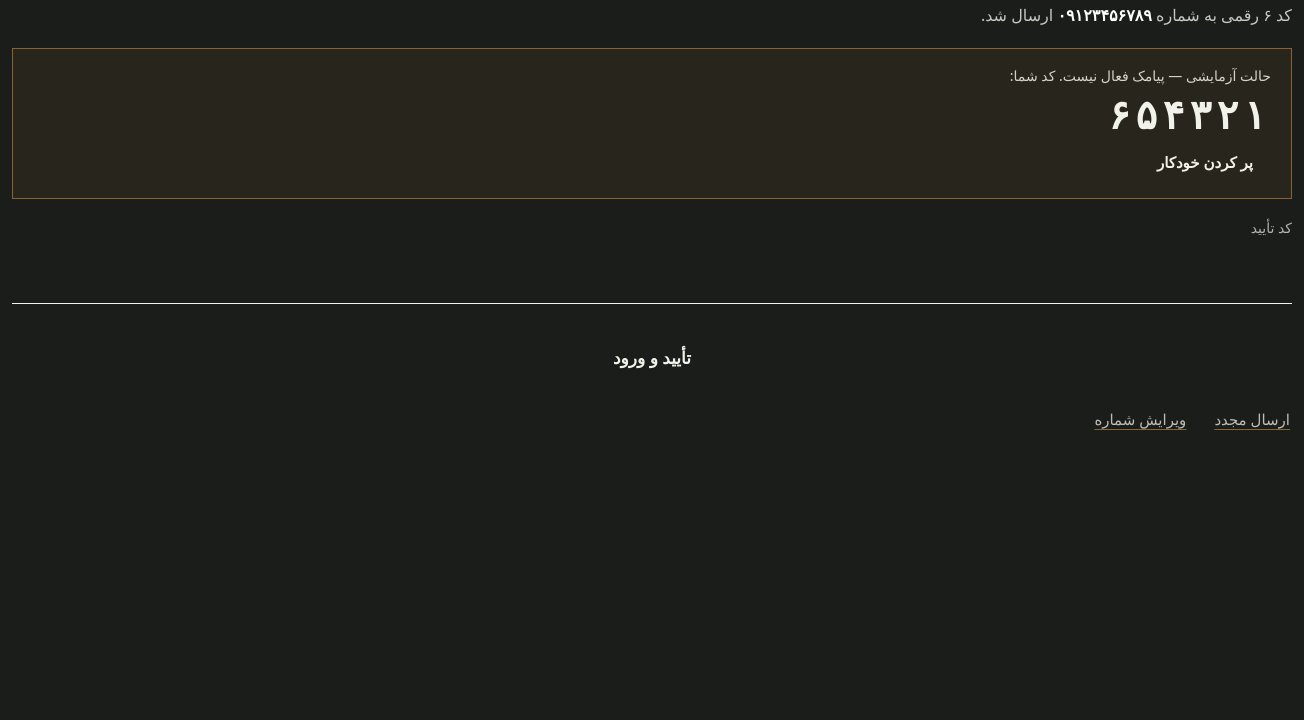
OtpVerify › shows the retry time of a rate limited resend and restarts the cooldown
Click the button "ارسال مجدد".
click(1252, 420)  # box [1212,402,1292,437]
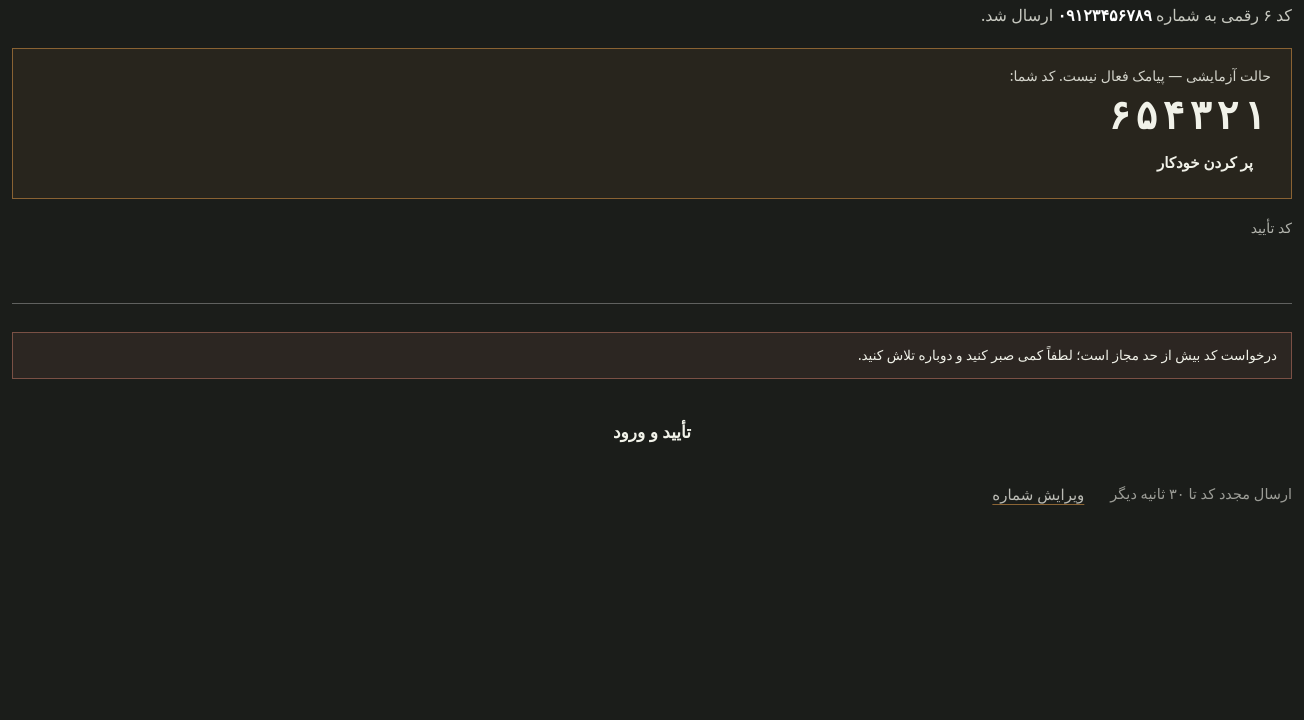
Result: the text "درخواست کد بیش از حد مجاز است؛ لطفاً کمی صبر کنید و دوباره تلاش کنید." is shown at [12,332,1292,379]
Result: the text "ارسال مجدد کد تا ۳۰ ثانیه دیگر" is shown at [1110,483,1292,505]
